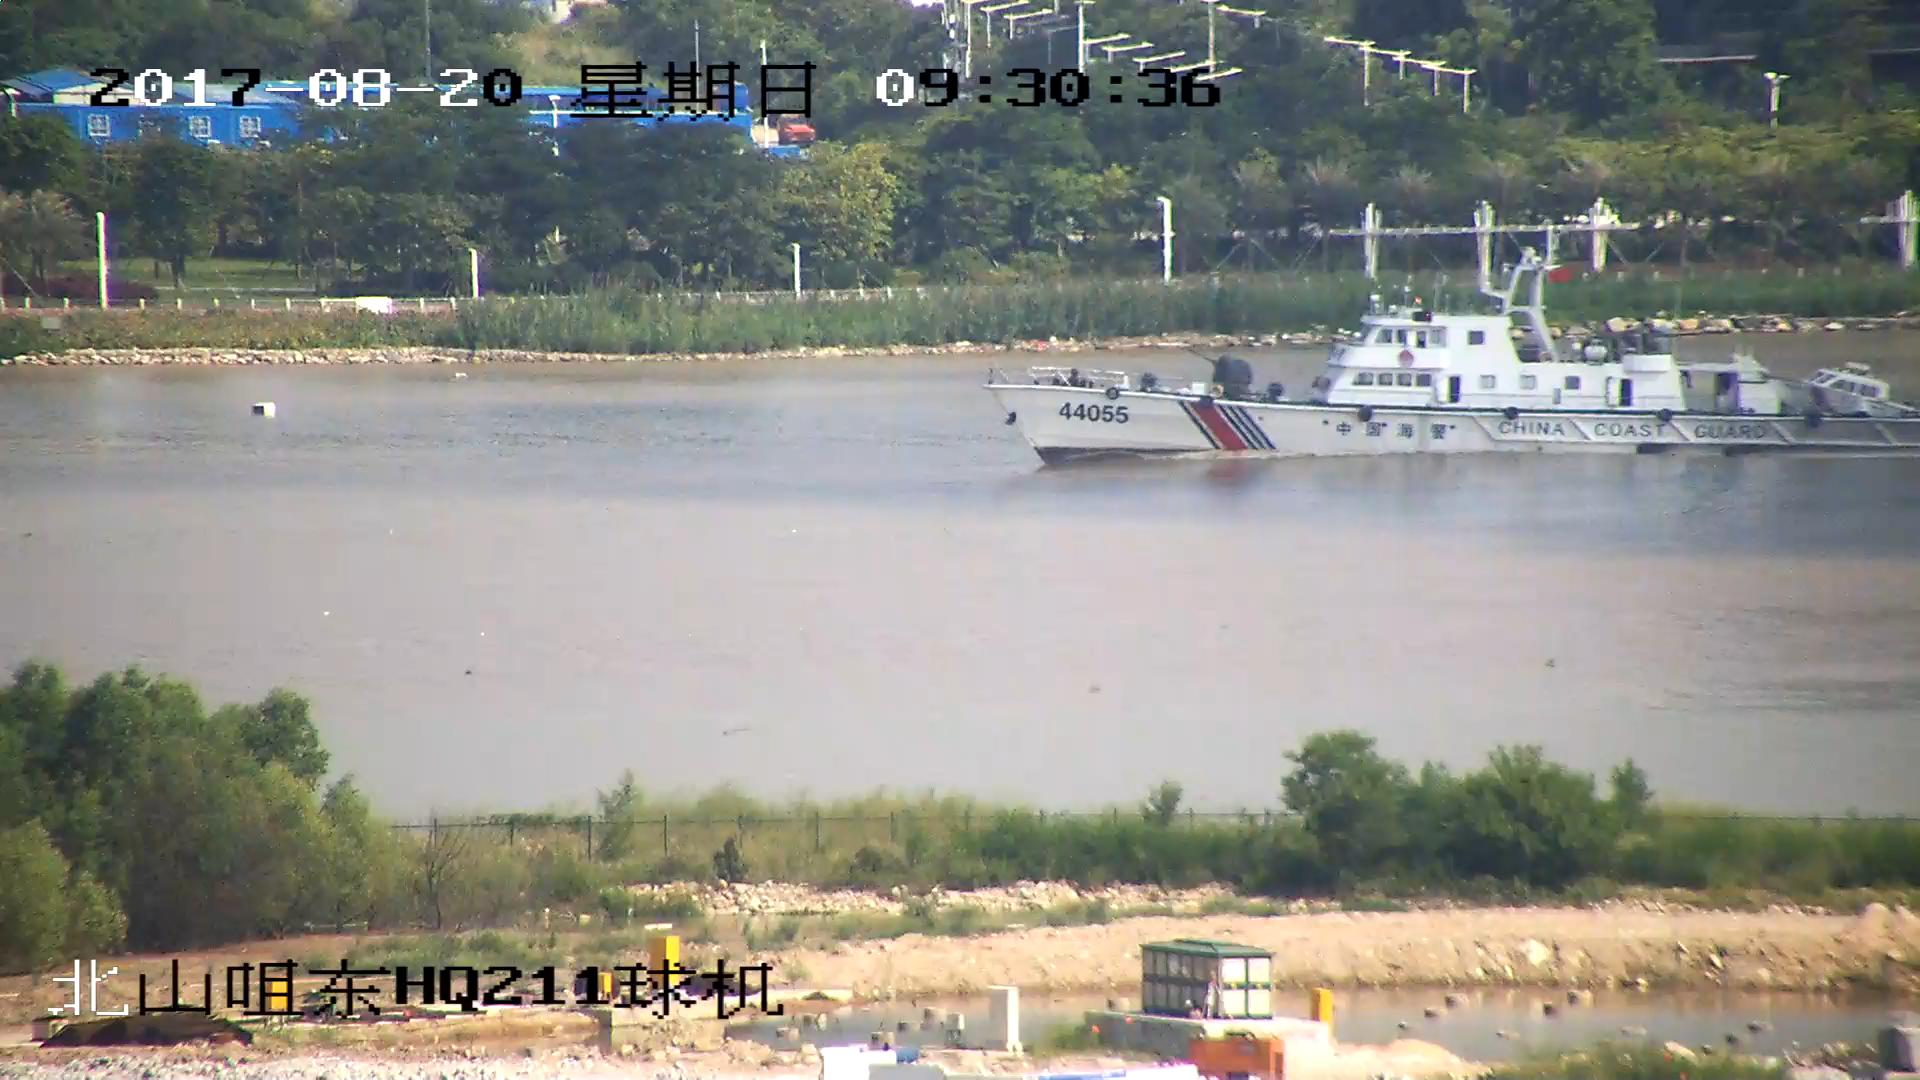passenger ship: (992, 248, 1920, 462)
